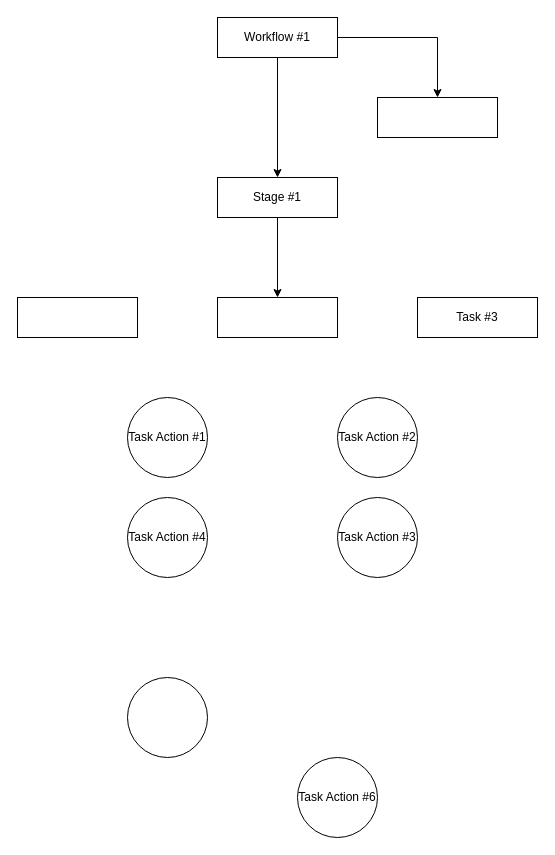
Image size: 555x855. Some labels were removed from this diagram. Each missing label, with the centre of its shape:
Stage #2: pixel 437 117
Task #1: pixel 77 317
Task #2: pixel 277 317
Task Action #5: pixel 167 717
